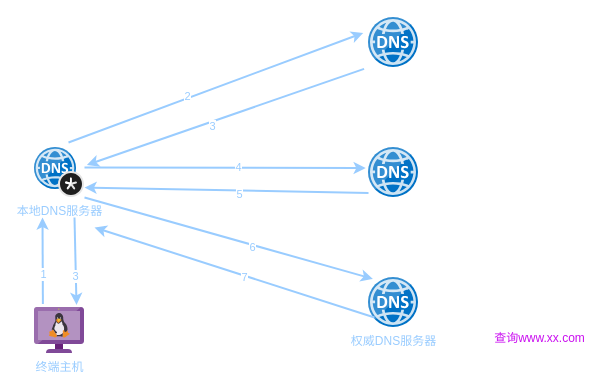
This 612x391 diagram has some shape labels left out. Here are the shapes that lost their labels. From the top down, the box of each, then its label:
(368, 17, 418, 67): 根DNS服务器
(368, 147, 418, 197): 顶级DNS服务器
